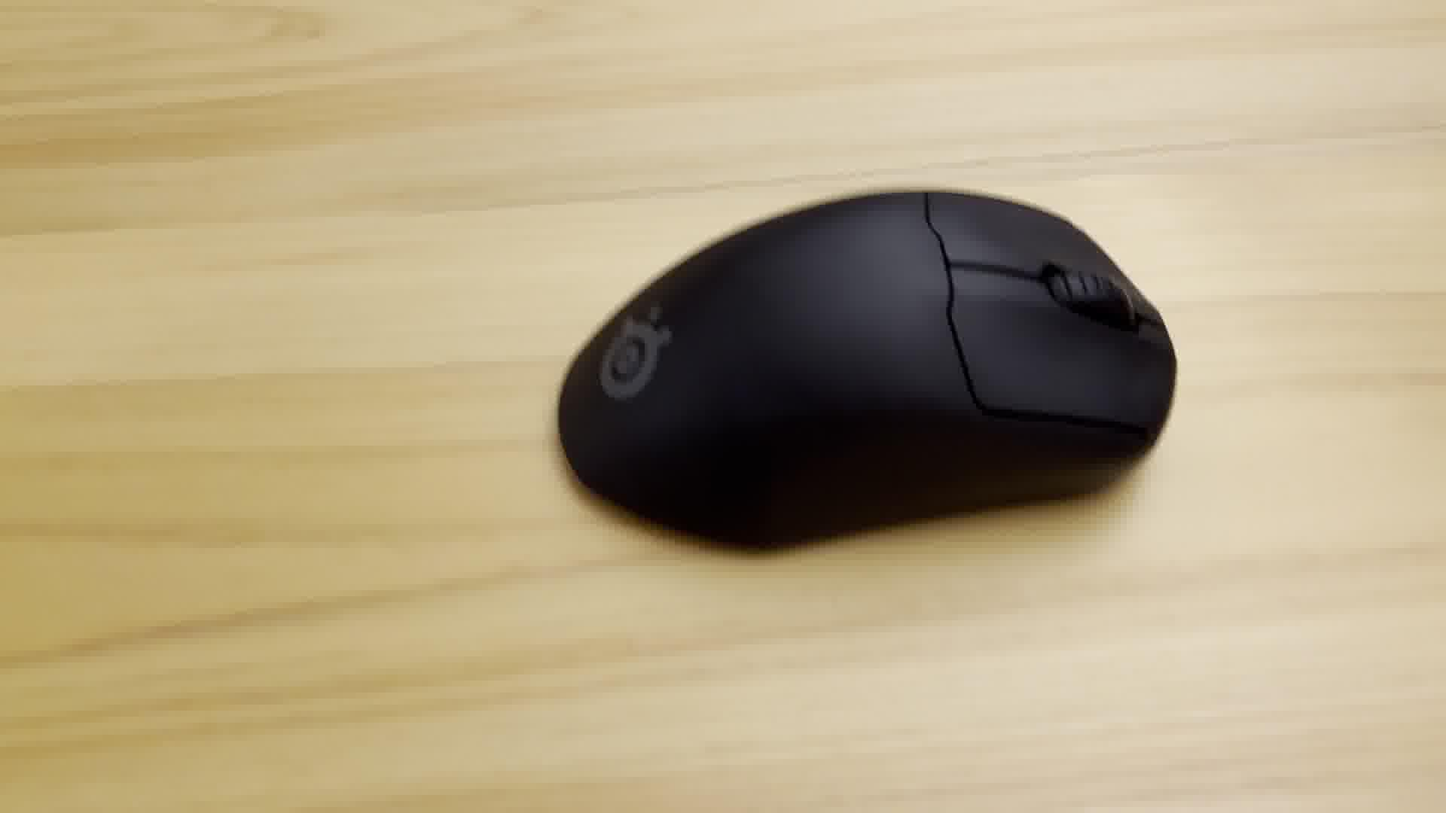mouse: (546, 176, 1188, 568)
